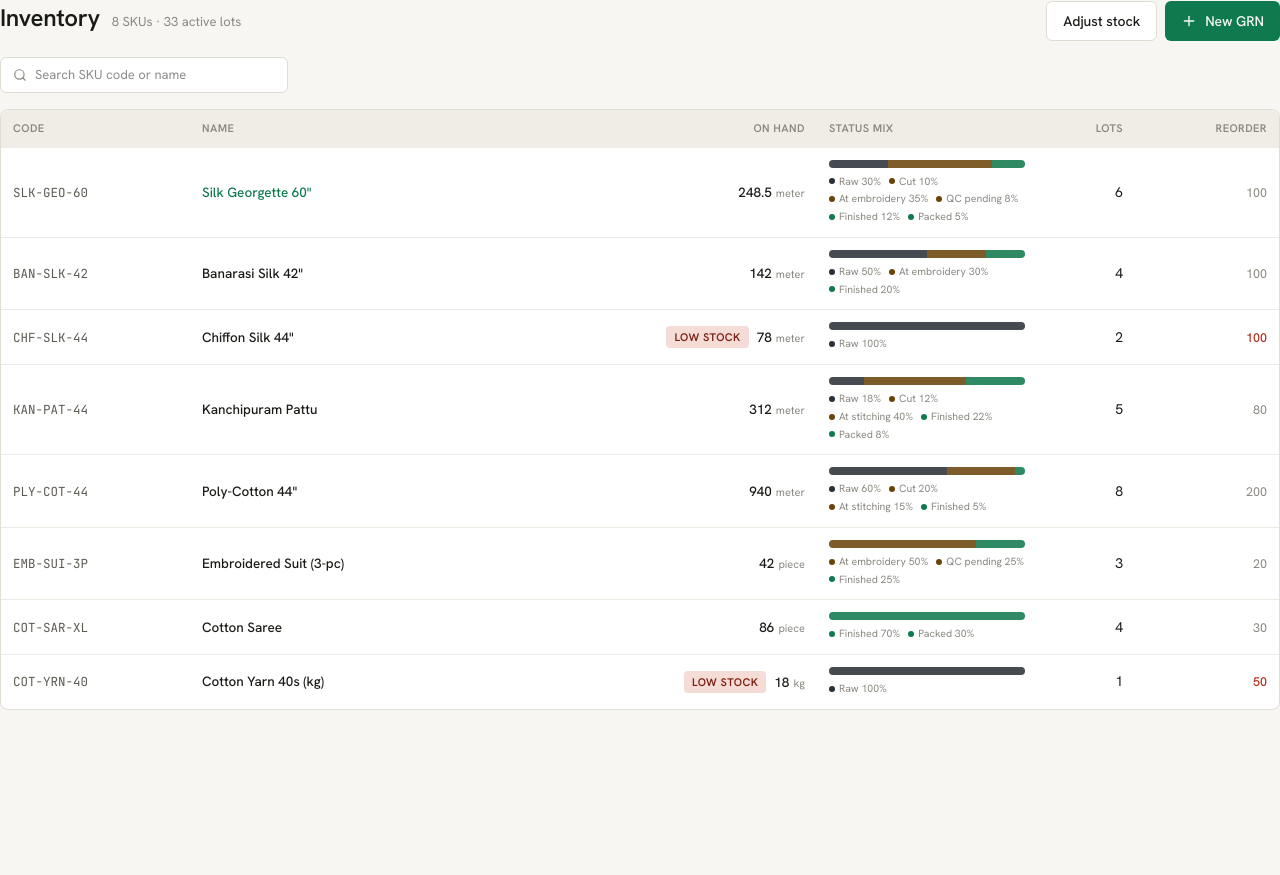
Inventory list + Lot detail › navigates to the lot detail and renders the StagesTimeline
Click the link "Silk Georgette 60\"" at point(257, 192), box [202, 183, 312, 201]
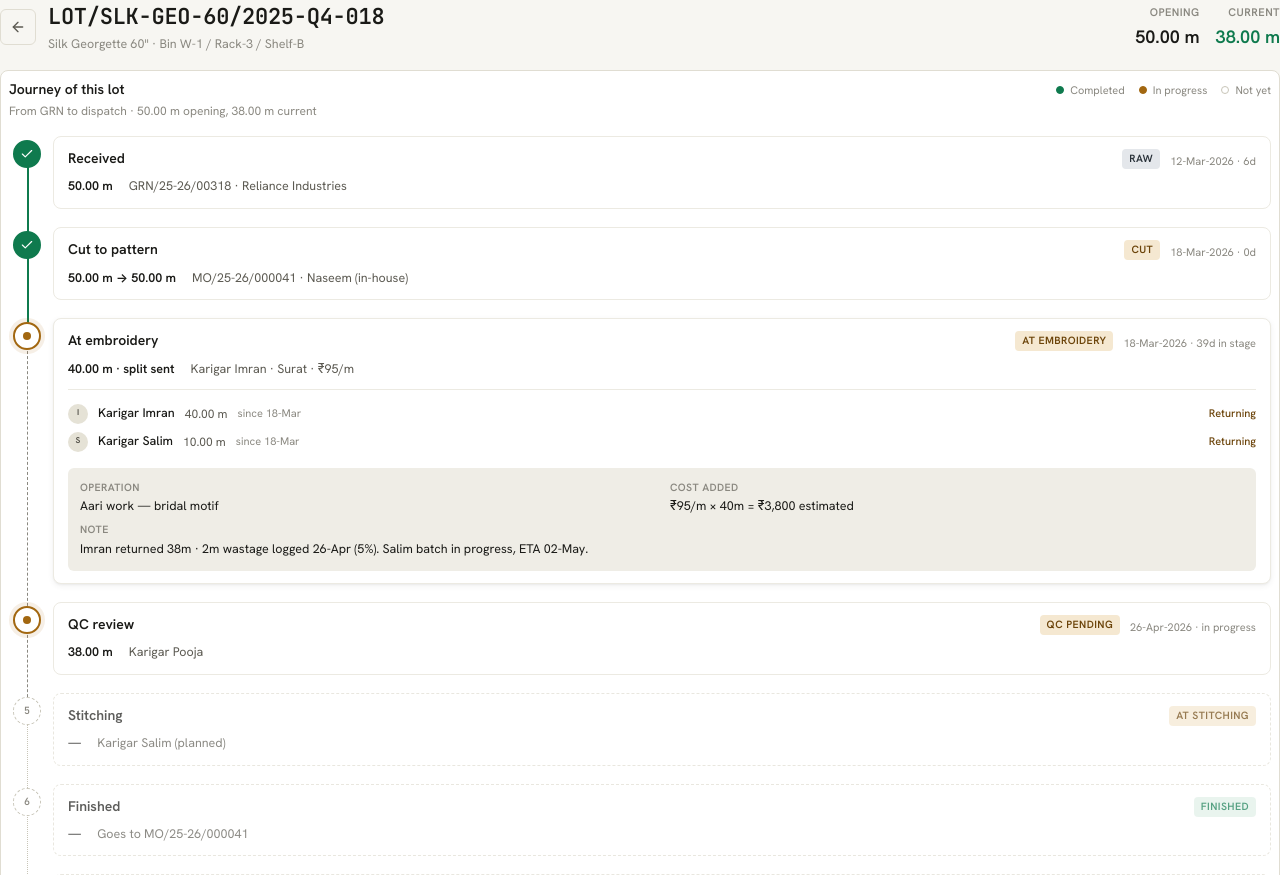
Expected: the text "Journey of this lot" is shown, [9, 80, 124, 98]
Expected: the button "At embroidery" is shown, [53, 318, 1271, 584]
